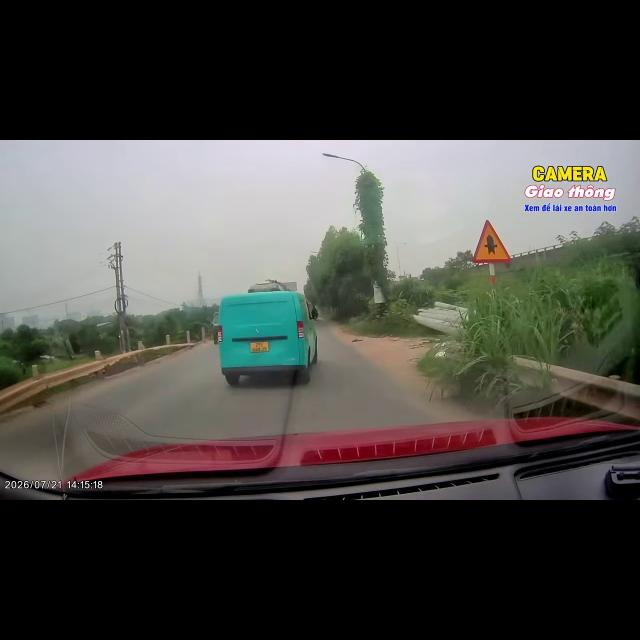car: (217, 291, 317, 385)
